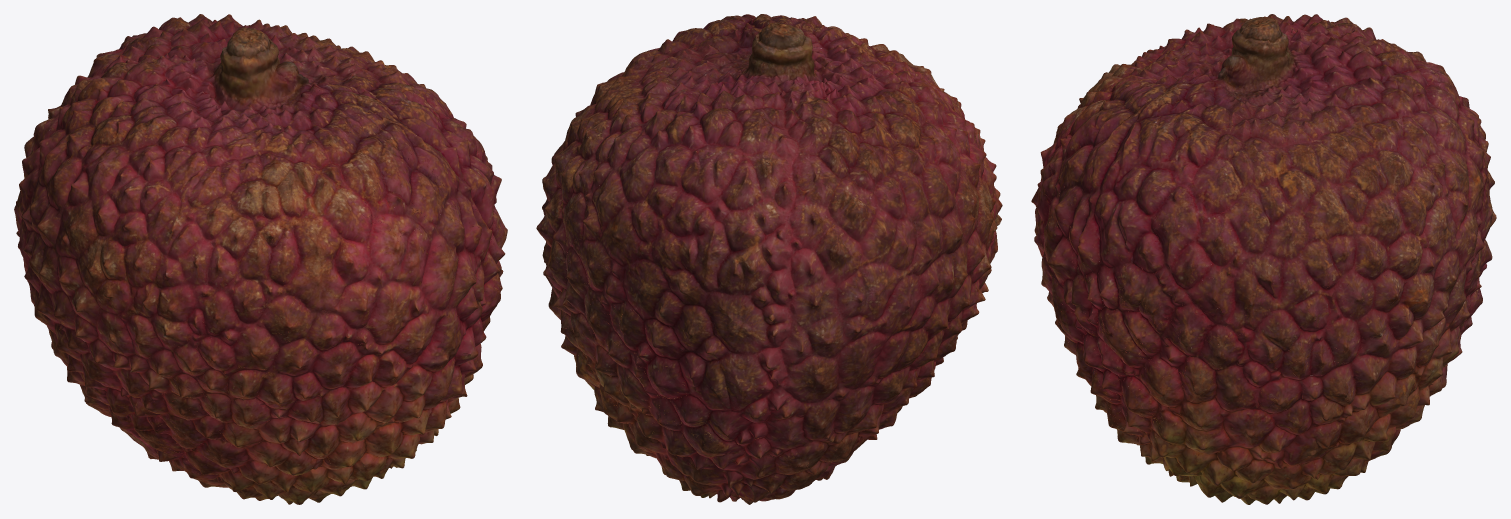
The model's file is lychee.glb.
3 views of the same model, side by side, from view 1: azimuth 30°, elevation 25°; view 2: azimuth 150°, elevation 25°; view 3: azimuth 270°, elevation 25° (orthographic). The views are drawn at different scales.
Parts seen in each view (by area): view 1: Object_2, Object_3; view 2: Object_2, Object_3; view 3: Object_2, Object_3.
Part boxes in pixels (x1=…): Object_2: x1=14, y1=14, x2=507, y2=479; Object_3: x1=89, y1=32, x2=507, y2=504; Object_2: x1=537, y1=15, x2=1002, y2=490; Object_3: x1=536, y1=14, x2=944, y2=504; Object_2: x1=1034, y1=14, x2=1496, y2=450; Object_3: x1=1031, y1=64, x2=1483, y2=504.
Bounding box in the file's own units: 1 × 1.09 × 1.01.
Materials: 1 (1 with a texture image).
